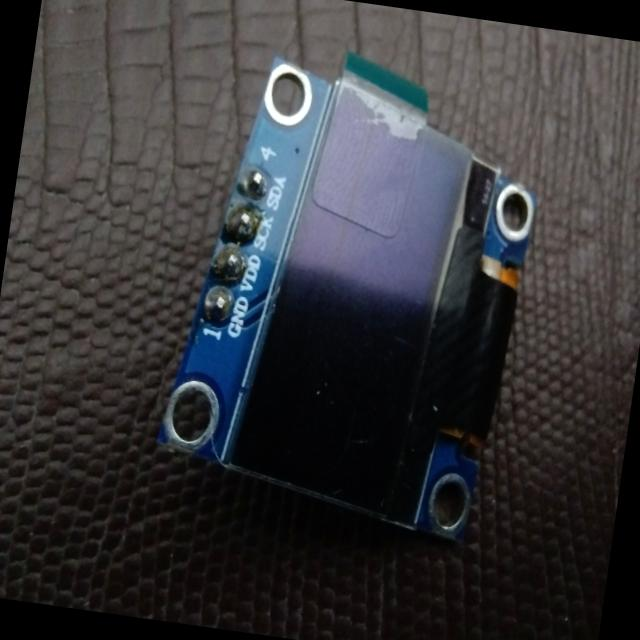oled: (162, 29, 558, 562)
